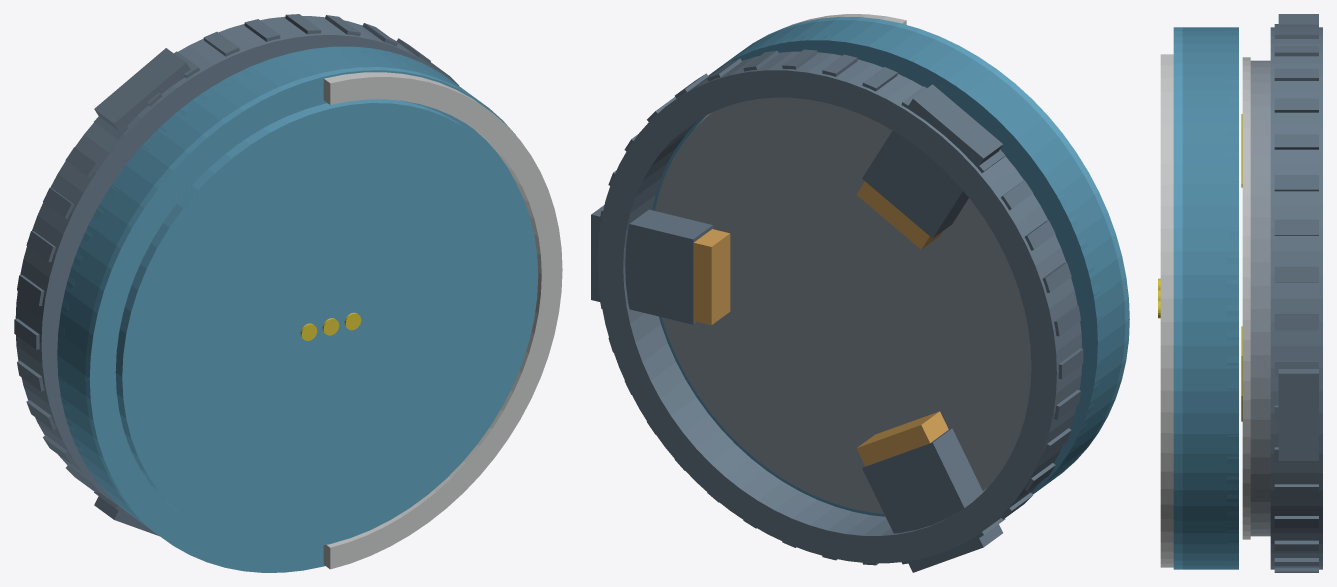
The model's file is cap_gripper_compact_45.glb.
3 renders of one model, left to right at view 1: azimuth 30°, elevation 25°; view 2: azimuth 150°, elevation 25°; view 3: azimuth 270°, elevation 25°, orthographic. The views are drawn at different scales.
Visible parts, largest first — view 1: top_lid, top_lid_skirt, scroll_collar, folding_bail, puck_shell_wall, jaw_1, puck_shell_floor; view 2: chuck_hub, scroll_collar, puck_shell_wall, jaw_1, jaw_2, puck_shell_floor, jaw_0, top_lid_skirt, silicone_pad_0, silicone_pad_2, silicone_pad_1; view 3: puck_shell_wall, scroll_collar, chuck_hub, folding_bail, top_lid_skirt, flexure_outer_ring, jaw_0, puck_shell_floor, rib_2, rib_3, rib_4, rib_5 (+13 smaller).
Part boxes in pixels (bbox=[...]): top_lid: bbox=[115, 99, 538, 549]; top_lid_skirt: bbox=[85, 67, 516, 572]; scroll_collar: bbox=[15, 16, 440, 508]; folding_bail: bbox=[323, 72, 562, 569]; puck_shell_wall: bbox=[57, 46, 474, 530]; jaw_1: bbox=[94, 48, 190, 130]; puck_shell_floor: bbox=[58, 46, 445, 501]; chuck_hub: bbox=[655, 97, 1031, 513]; scroll_collar: bbox=[597, 51, 1082, 563]; puck_shell_wall: bbox=[652, 20, 1125, 516]; jaw_1: bbox=[862, 84, 1003, 238]; jaw_2: bbox=[862, 428, 1002, 572]; puck_shell_floor: bbox=[653, 36, 1102, 516]; jaw_0: bbox=[591, 205, 712, 324]; top_lid_skirt: bbox=[749, 17, 1129, 475]; silicone_pad_0: bbox=[693, 229, 730, 325]; silicone_pad_2: bbox=[856, 411, 948, 466]; silicone_pad_1: bbox=[856, 181, 942, 249]; puck_shell_wall: bbox=[1182, 27, 1238, 569]; scroll_collar: bbox=[1270, 27, 1322, 569]; chuck_hub: bbox=[1250, 60, 1270, 536]; folding_bail: bbox=[1160, 54, 1173, 567]; top_lid_skirt: bbox=[1173, 27, 1182, 569]; flexure_outer_ring: bbox=[1242, 57, 1250, 539]; jaw_0: bbox=[1278, 369, 1318, 460]; puck_shell_floor: bbox=[1227, 27, 1238, 569]; rib_2: bbox=[1274, 314, 1318, 330]; rib_3: bbox=[1274, 266, 1318, 282]; rib_4: bbox=[1274, 219, 1318, 235]; rib_5: bbox=[1274, 175, 1318, 191].
Size of the model in its own units: 55.35 by 54.7 by 16.4.
